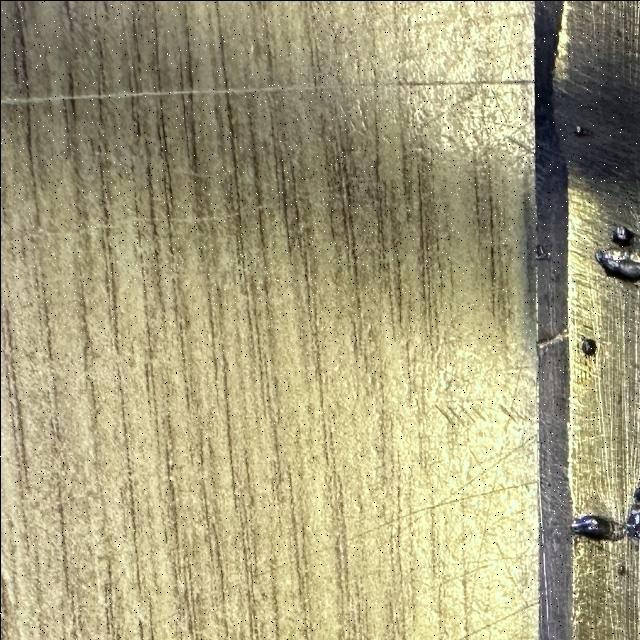Excess Reinforcement: (625, 486, 640, 540)
Spatters: (595, 248, 640, 280), (570, 515, 624, 540), (536, 327, 568, 348), (610, 225, 632, 247), (580, 338, 596, 357), (535, 245, 549, 260), (616, 563, 626, 577), (574, 126, 582, 135)
